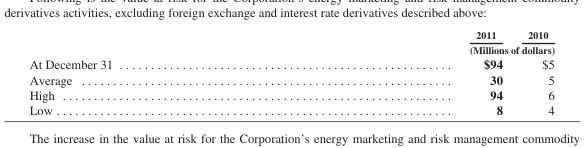table: (28, 28, 554, 116)
table column: (28, 28, 290, 116), (290, 28, 514, 116), (514, 28, 554, 116)
table column header: (28, 28, 554, 56)
table row: (28, 56, 554, 71), (28, 71, 554, 86), (28, 86, 554, 101), (28, 101, 554, 116), (28, 28, 554, 42), (28, 42, 554, 56)
table spanning cell: (290, 42, 554, 56)
